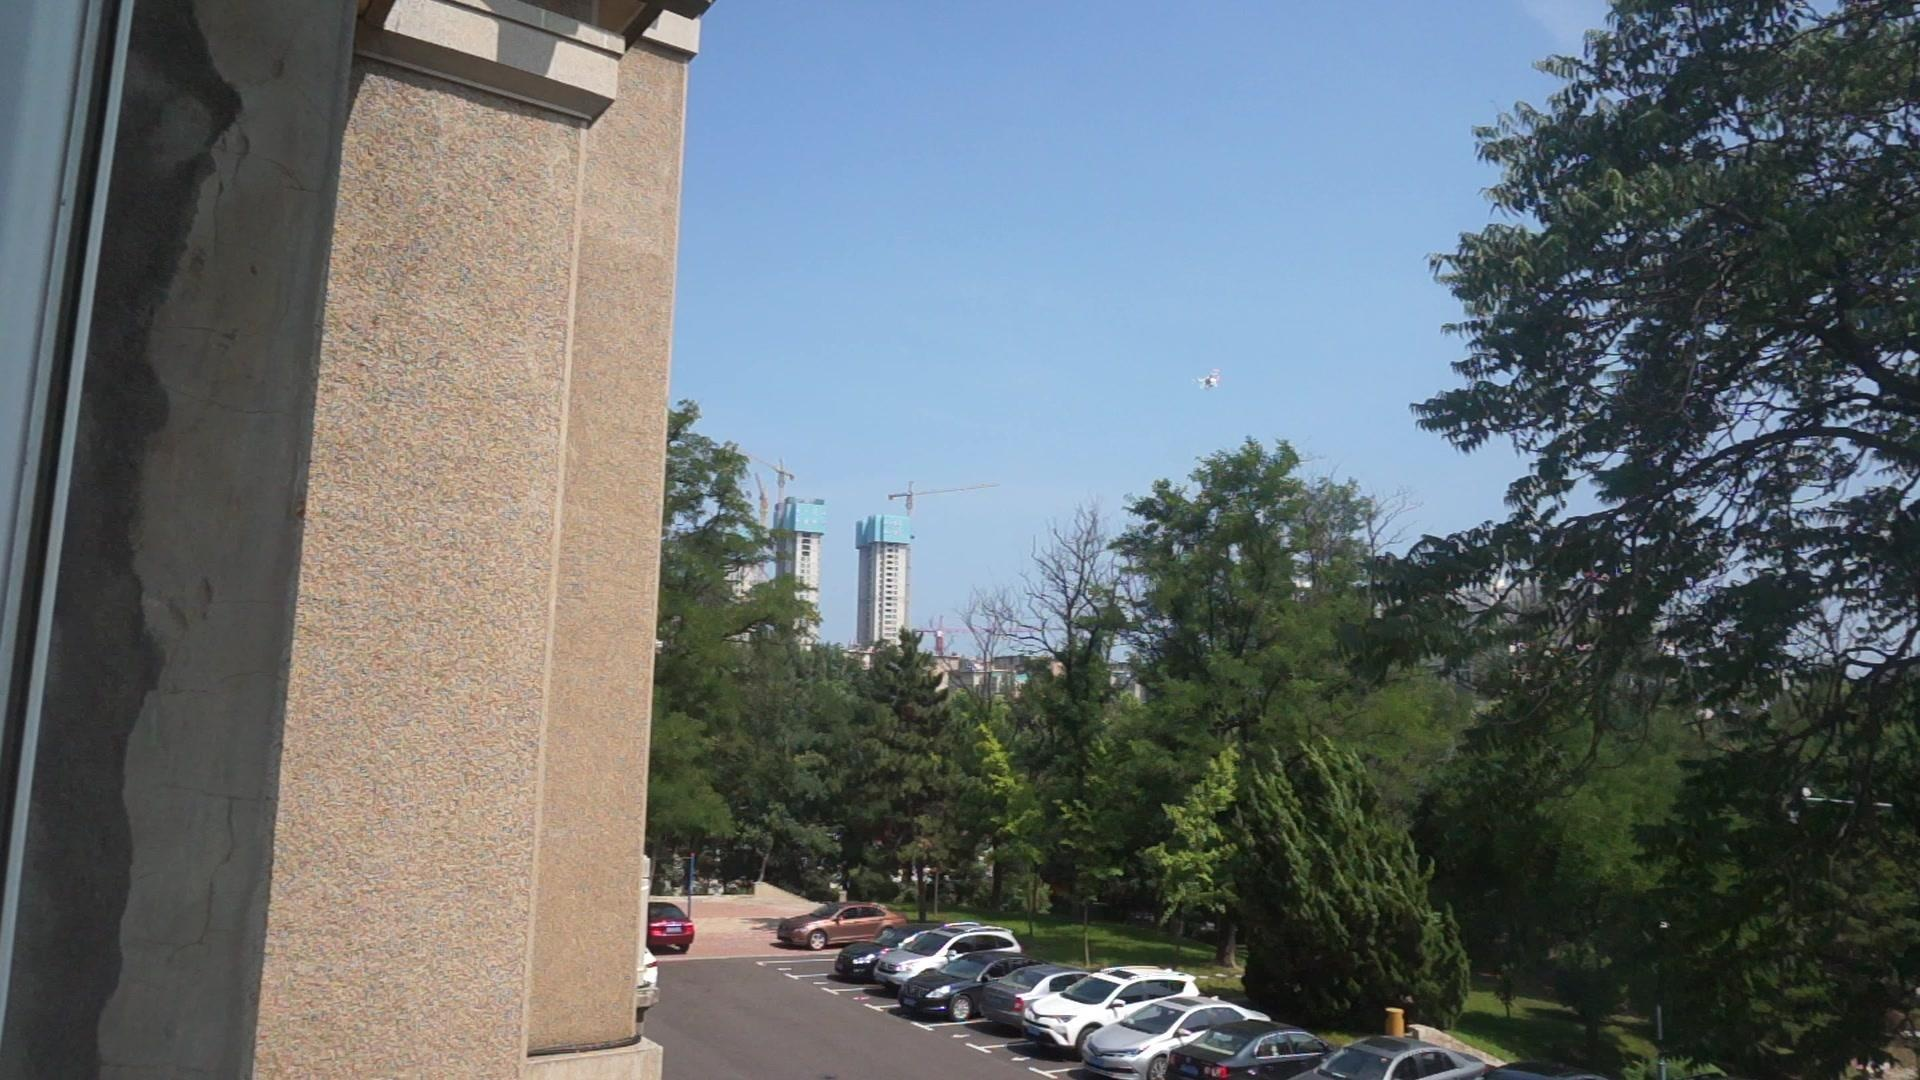UAV: (1193, 369, 1221, 392)
